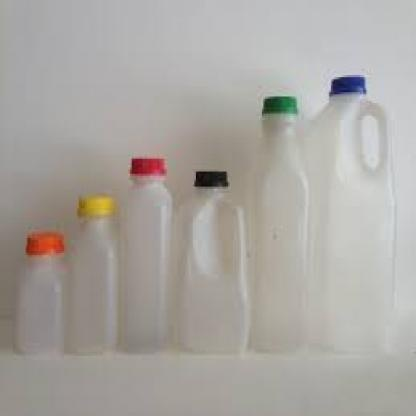trash: (314, 75, 383, 351), (255, 96, 308, 351), (179, 171, 249, 351), (127, 157, 172, 351), (73, 194, 118, 352), (16, 231, 63, 352)
